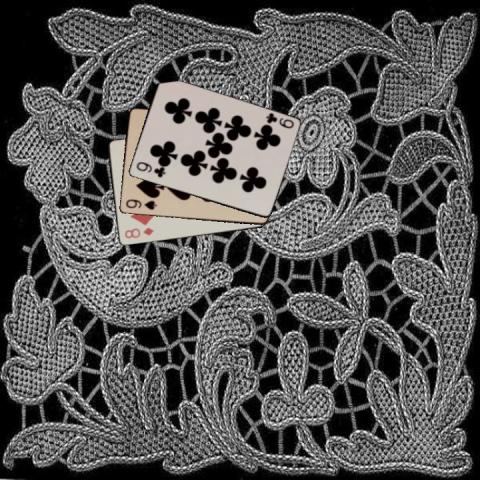8d: (122, 225, 155, 240)
9c: (133, 160, 167, 180), (262, 110, 294, 130)
9s: (123, 196, 158, 211)
